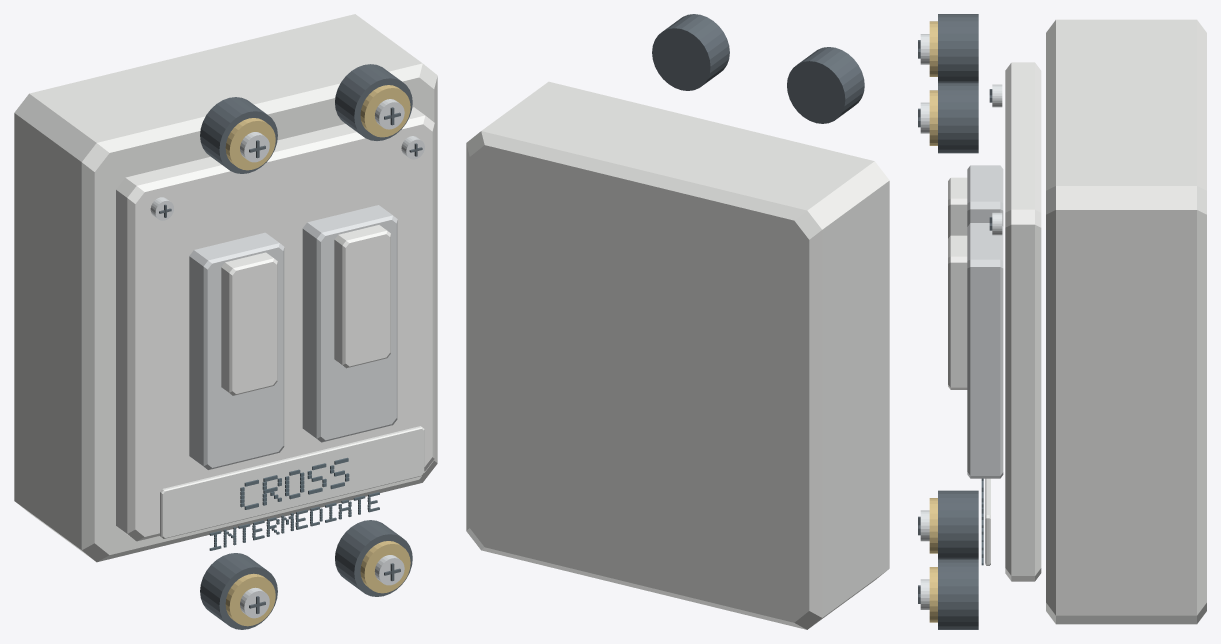
The model's file is intermediateSwitch.glb.
The picture shows the model from 3 angles, left to right: view 1: azimuth 30°, elevation 25°; view 2: azimuth 150°, elevation 25°; view 3: azimuth 270°, elevation 25°; orthographic projection. The views are drawn at different scales.
Visible parts, largest first — view 1: intermediateSwitch-detailed; view 2: intermediateSwitch-detailed; view 3: intermediateSwitch-detailed.
Part boxes in pixels (x1=…): intermediateSwitch-detailed: x1=14, y1=14, x2=437, y2=629; intermediateSwitch-detailed: x1=466, y1=14, x2=889, y2=629; intermediateSwitch-detailed: x1=918, y1=14, x2=1206, y2=629.
Size of the model in its own units: 1.91 by 2.65 by 1.28.
